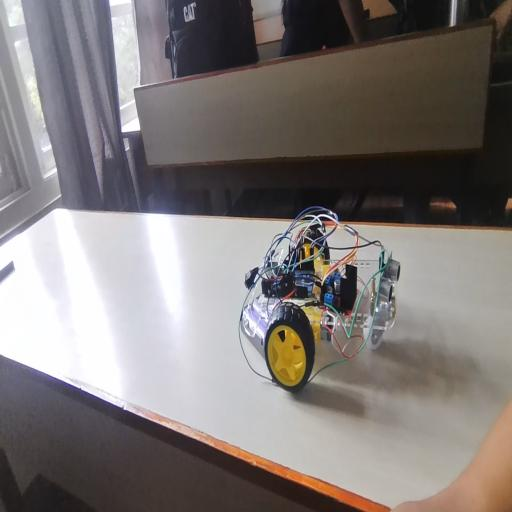car: (244, 205, 426, 395)
